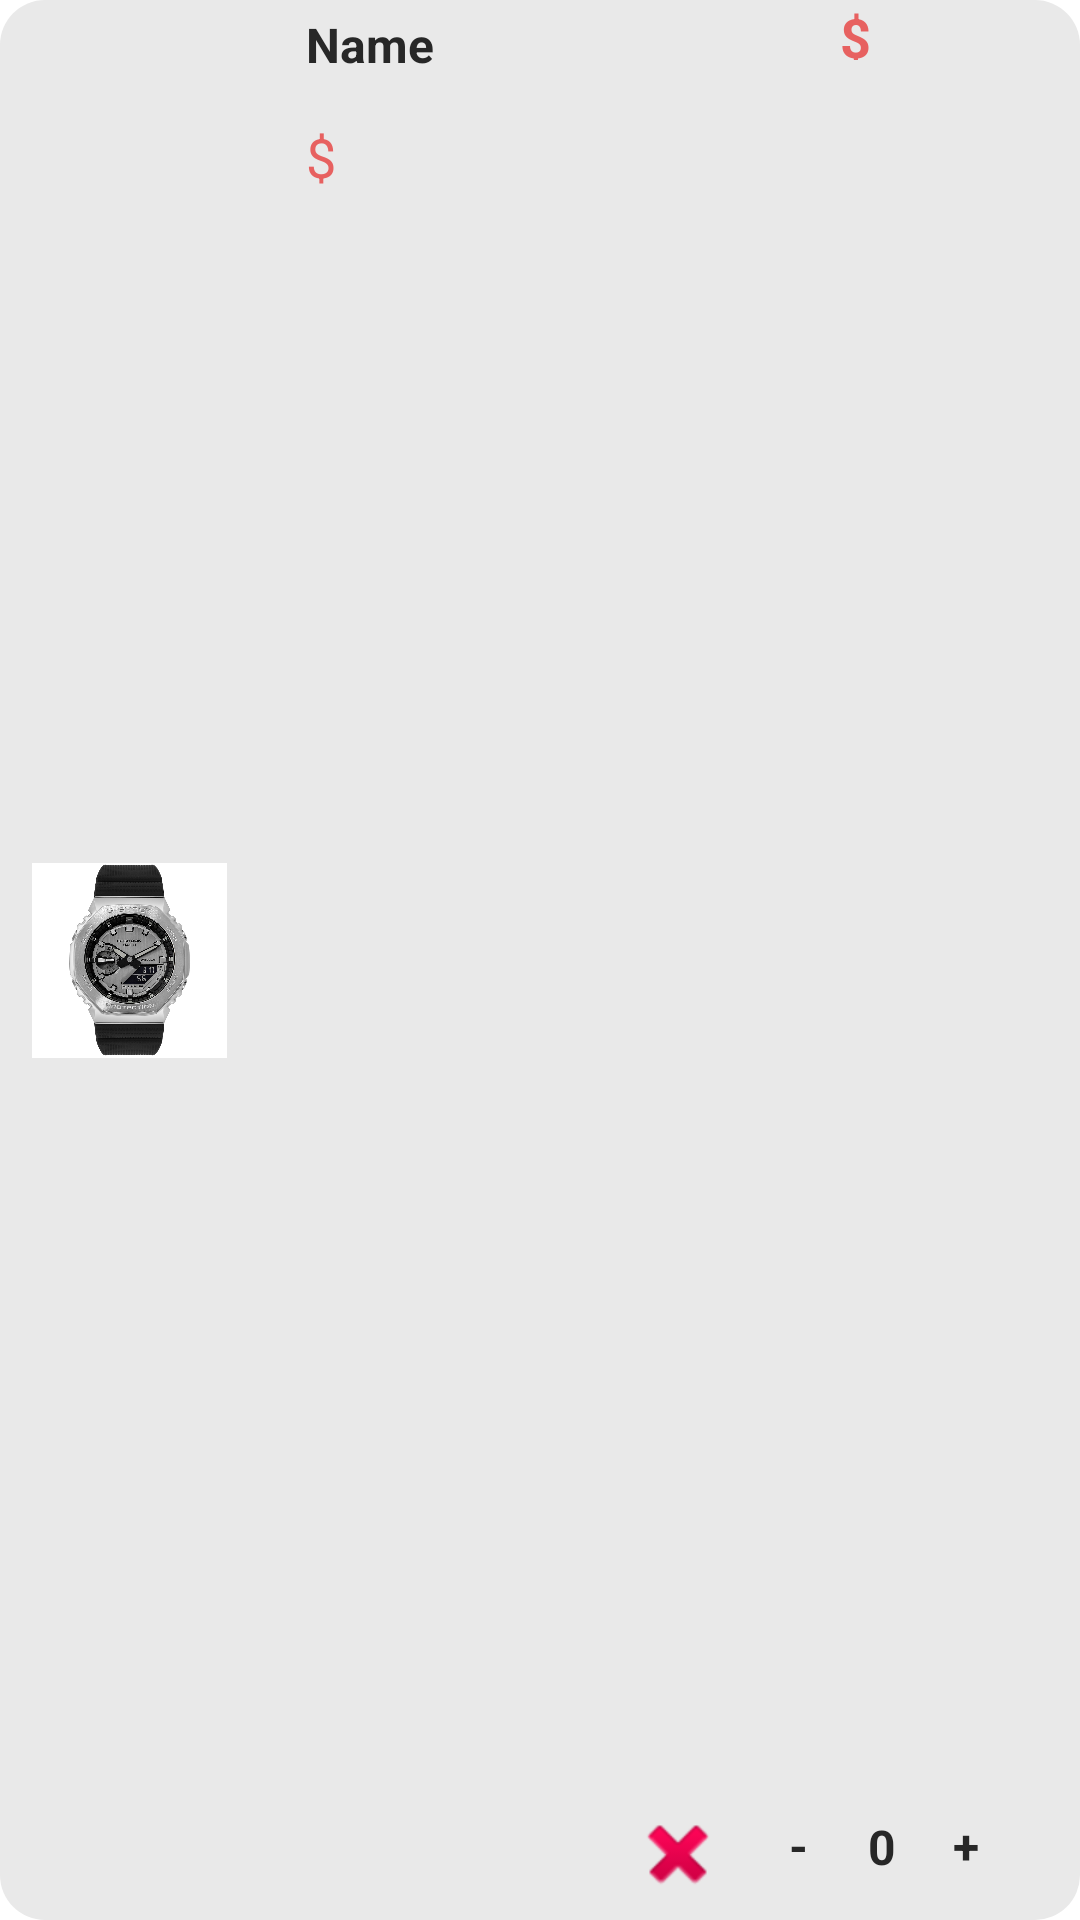

Named icons in this screenshot (1080px x 1920px) and their centers, (x,y):
delete: (678,1854)
